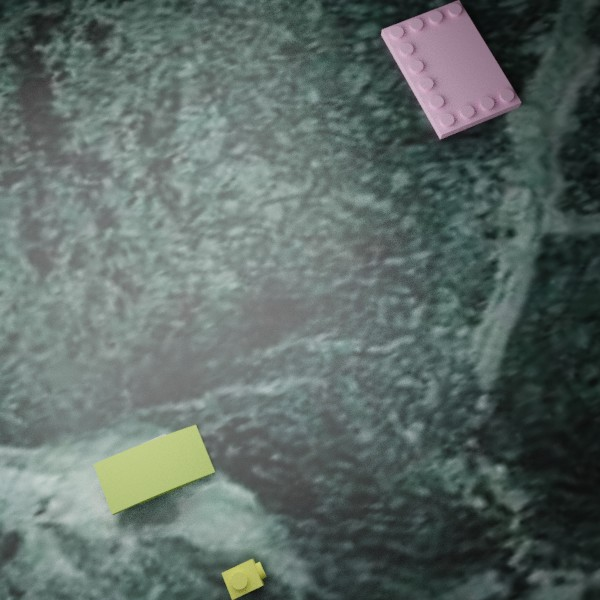lego: (381, 0, 521, 139), (93, 424, 215, 515), (221, 558, 266, 599), (141, 433, 176, 468)
